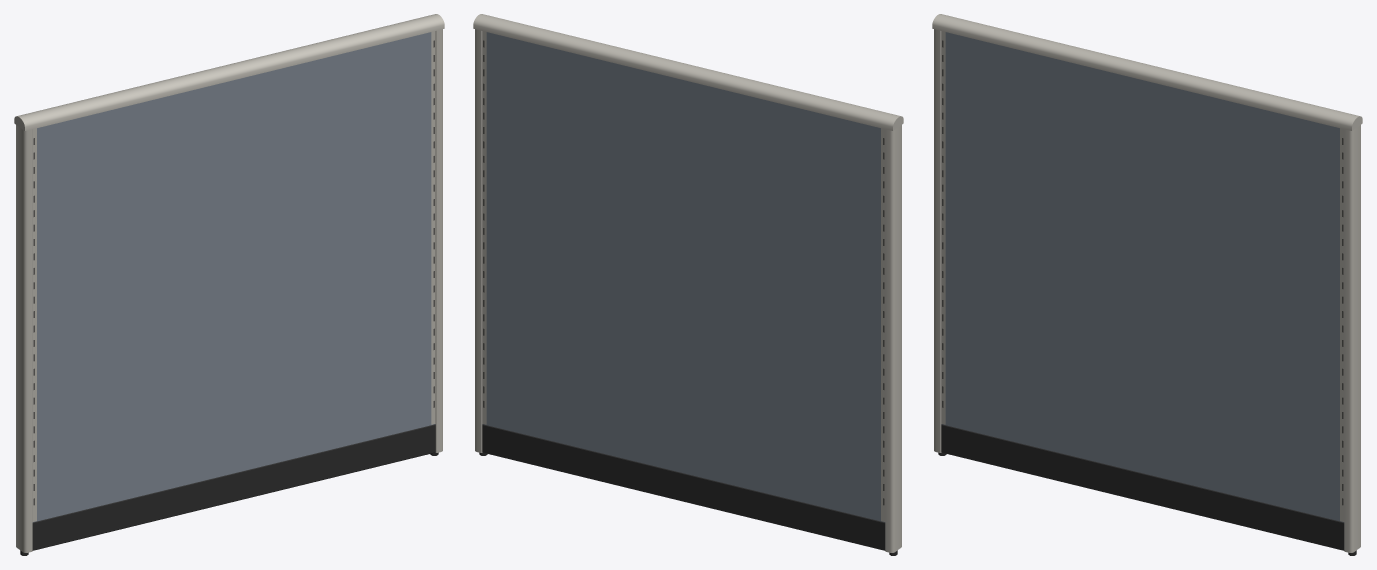
The model's file is Kit_CubiclePanel.fbx.
3 renders of one model, left to right at view 1: azimuth 30°, elevation 25°; view 2: azimuth 150°, elevation 25°; view 3: azimuth 330°, elevation 25°, orthographic.
Parts seen in each view (by area): view 1: Kit_CubiclePanel_LOD0; view 2: Kit_CubiclePanel_LOD0; view 3: Kit_CubiclePanel_LOD0.
Boxes of the visible parts, <box> form: Kit_CubiclePanel_LOD0: <box>14,14,444,555</box>; Kit_CubiclePanel_LOD0: <box>473,14,903,555</box>; Kit_CubiclePanel_LOD0: <box>932,14,1362,555</box>.
Size of what is drawn, in the model's own units: 1.52 by 1.52 by 0.067.
